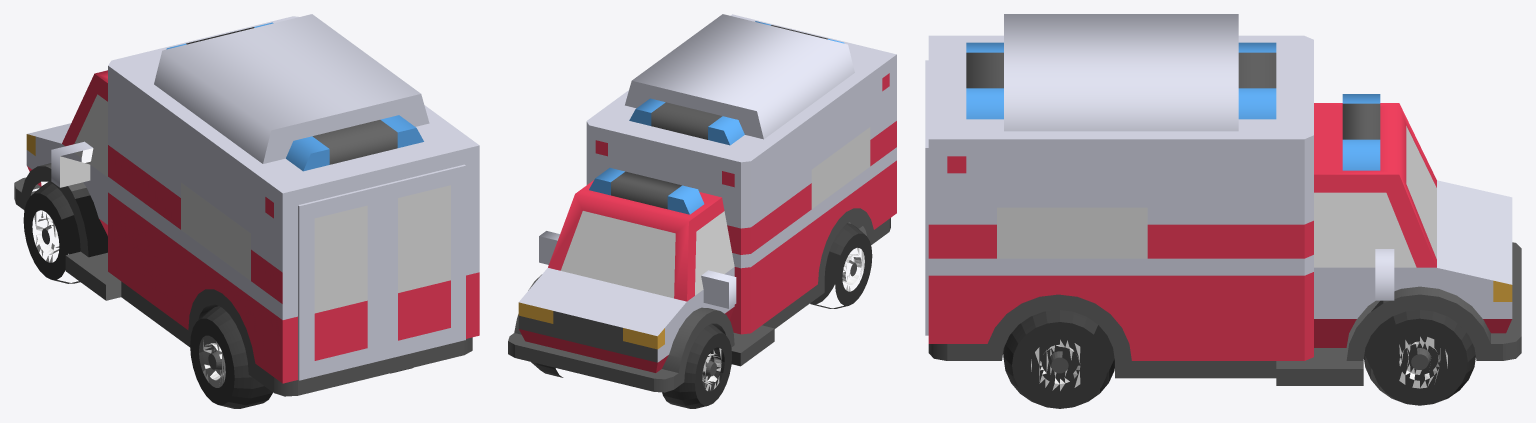
Rendered from ambulance.gltf.
The picture shows the model from 3 angles, left to right: view 1: azimuth 30°, elevation 25°; view 2: azimuth 150°, elevation 25°; view 3: azimuth 270°, elevation 25°; orthographic projection. The views are drawn at different scales.
Visible parts, largest first — view 1: body; view 2: body; view 3: body.
Boxes of the visible parts, <box> form: body: <box>14,14,479,408</box>; body: <box>508,14,896,408</box>; body: <box>925,14,1521,408</box>.
Size of the model in its own units: 1.5 by 1.84 by 3.17.
